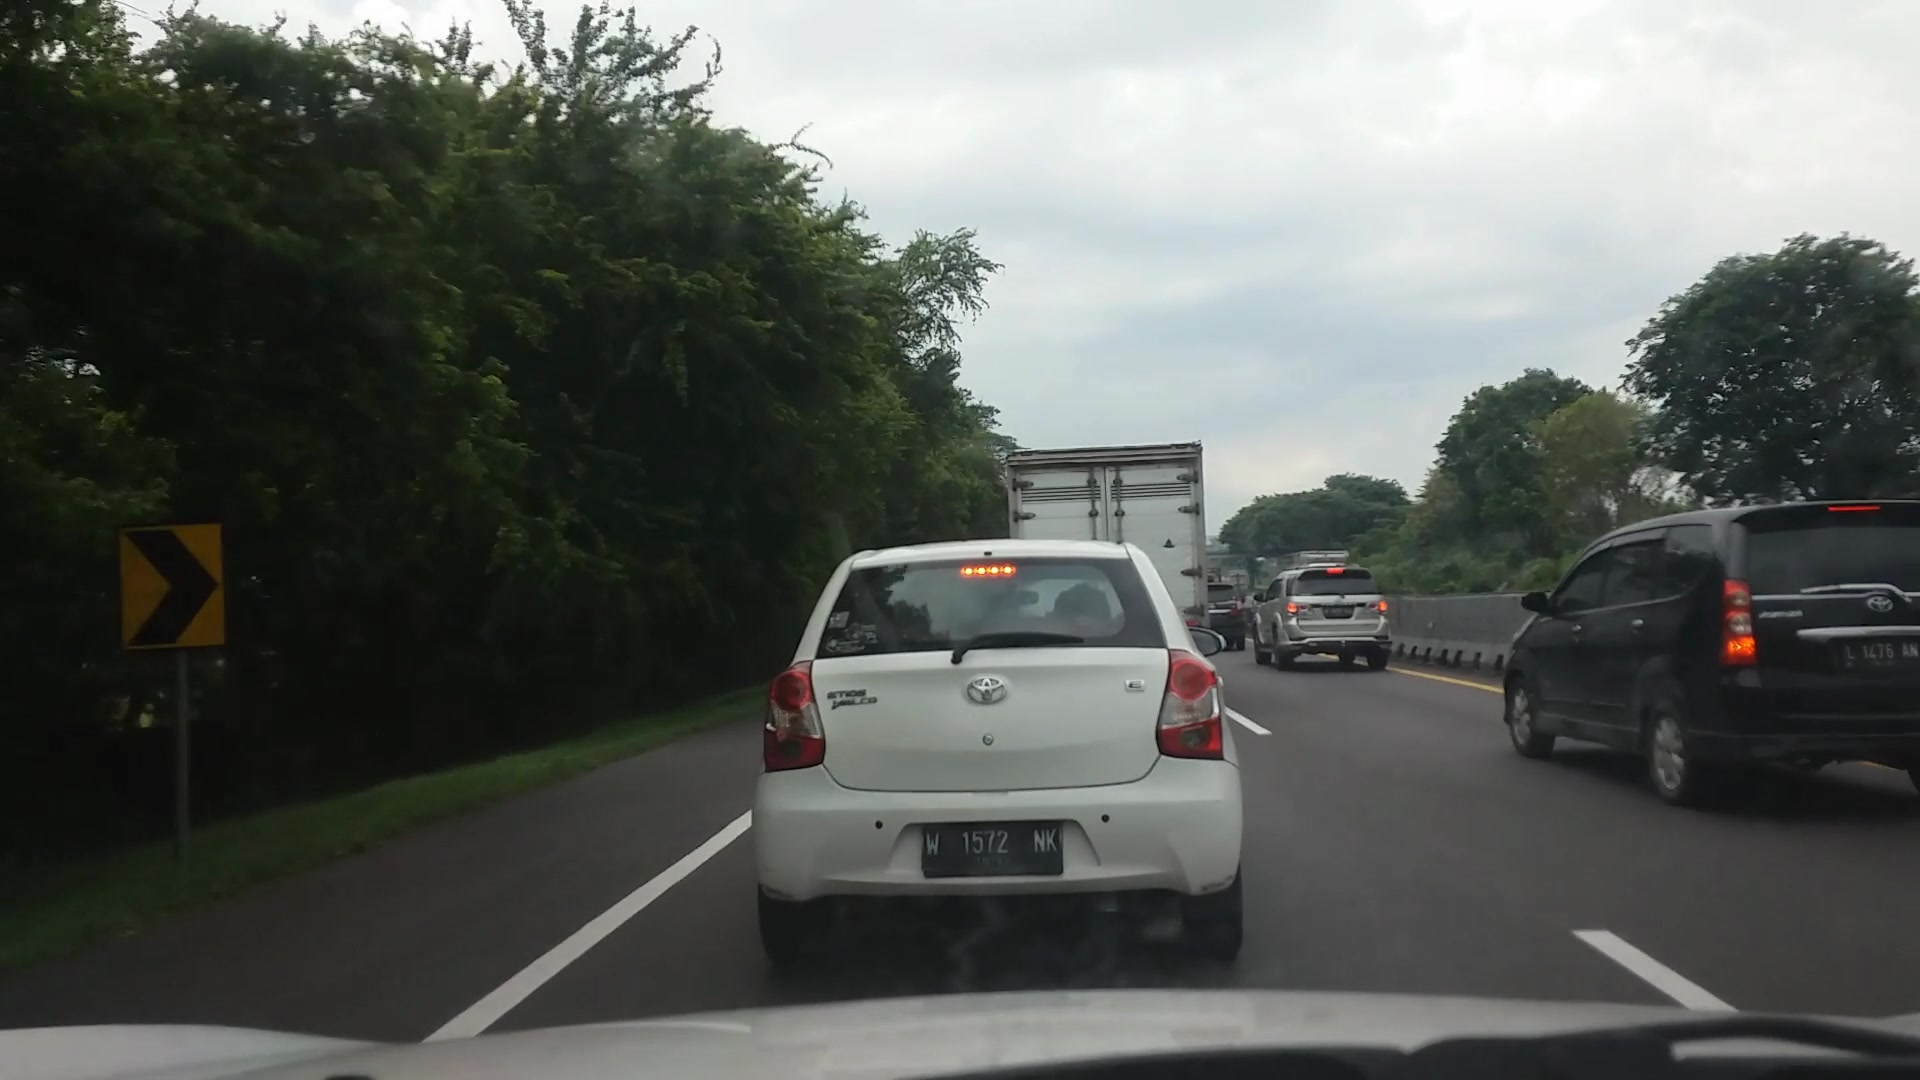plate_positive: (923, 824, 1062, 876)
